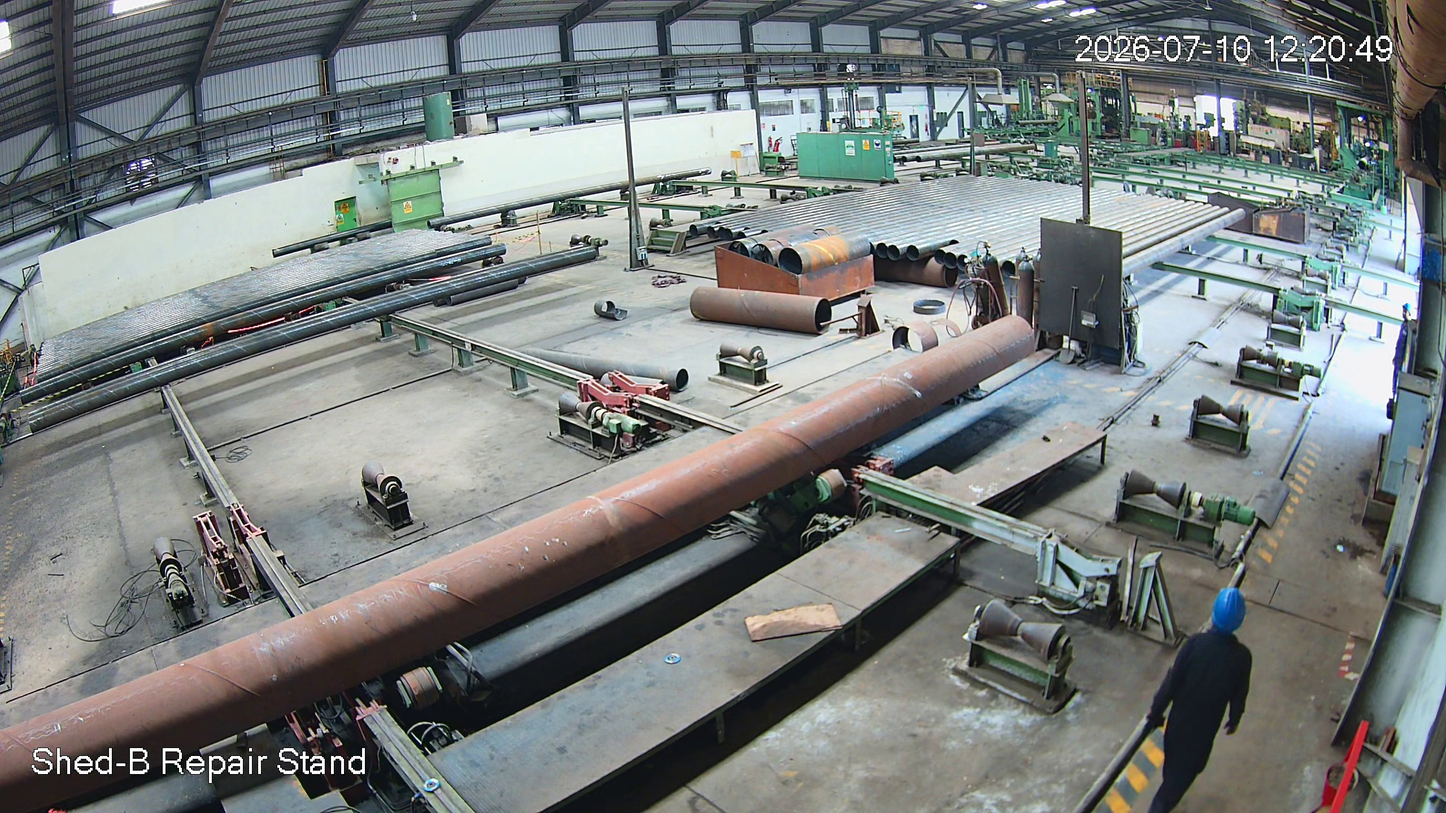Helmet: (1201, 581, 1253, 677)
Person: (1137, 589, 1273, 813)
